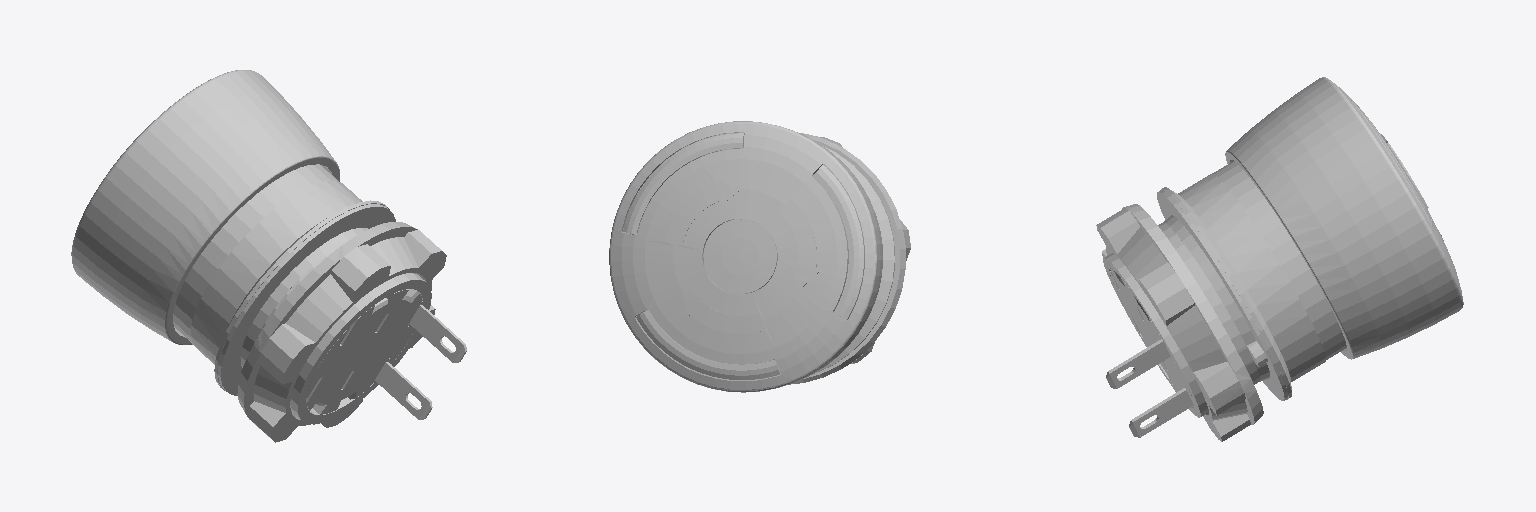
File: estop_link.obj
3 renders of one model, left to right at view 1: azimuth 30°, elevation 25°; view 2: azimuth 150°, elevation 25°; view 3: azimuth 270°, elevation 25°, orthographic.
Visible parts, largest first — view 1: estop_link; view 2: estop_link; view 3: estop_link.
Boxes of the visible parts, box(x1,y1,x2,y2) form: estop_link: box(71, 70, 466, 442); estop_link: box(609, 121, 910, 392); estop_link: box(1096, 77, 1463, 441).
Bounding box in the file's own units: 0.0387 × 0.0413 × 0.0433.